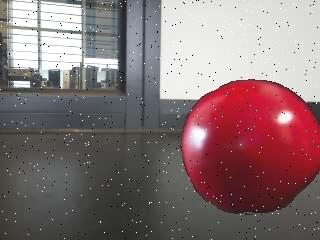Tomato: (181, 79, 320, 214)
